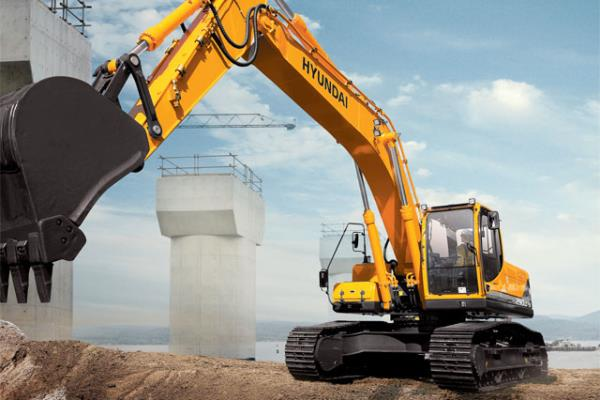backhoe: (1, 1, 547, 393)
